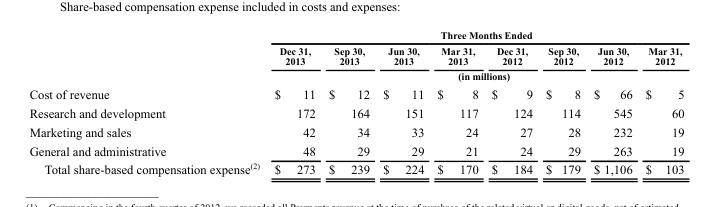table: (28, 28, 683, 176)
table column: (28, 28, 266, 176), (266, 28, 321, 176), (429, 28, 484, 176), (321, 28, 375, 176), (375, 28, 429, 176), (484, 28, 538, 176), (586, 28, 638, 176), (538, 28, 586, 176), (638, 28, 683, 176)
table column header: (28, 28, 683, 84)
table row: (28, 42, 683, 68), (28, 102, 683, 121), (28, 121, 683, 140), (28, 84, 683, 102), (28, 140, 683, 158), (28, 158, 683, 176), (28, 68, 683, 84), (28, 28, 683, 42)
table spanning cell: (266, 68, 683, 84), (266, 28, 683, 42)
